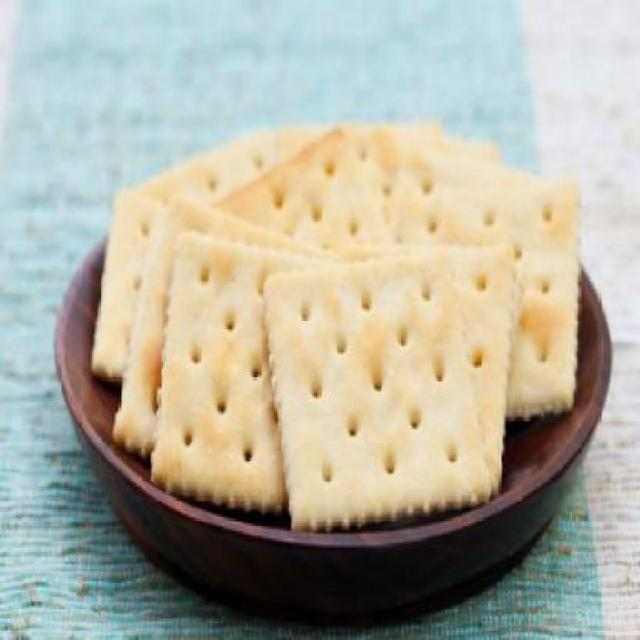Cracker packaged: (254, 242, 492, 524)
